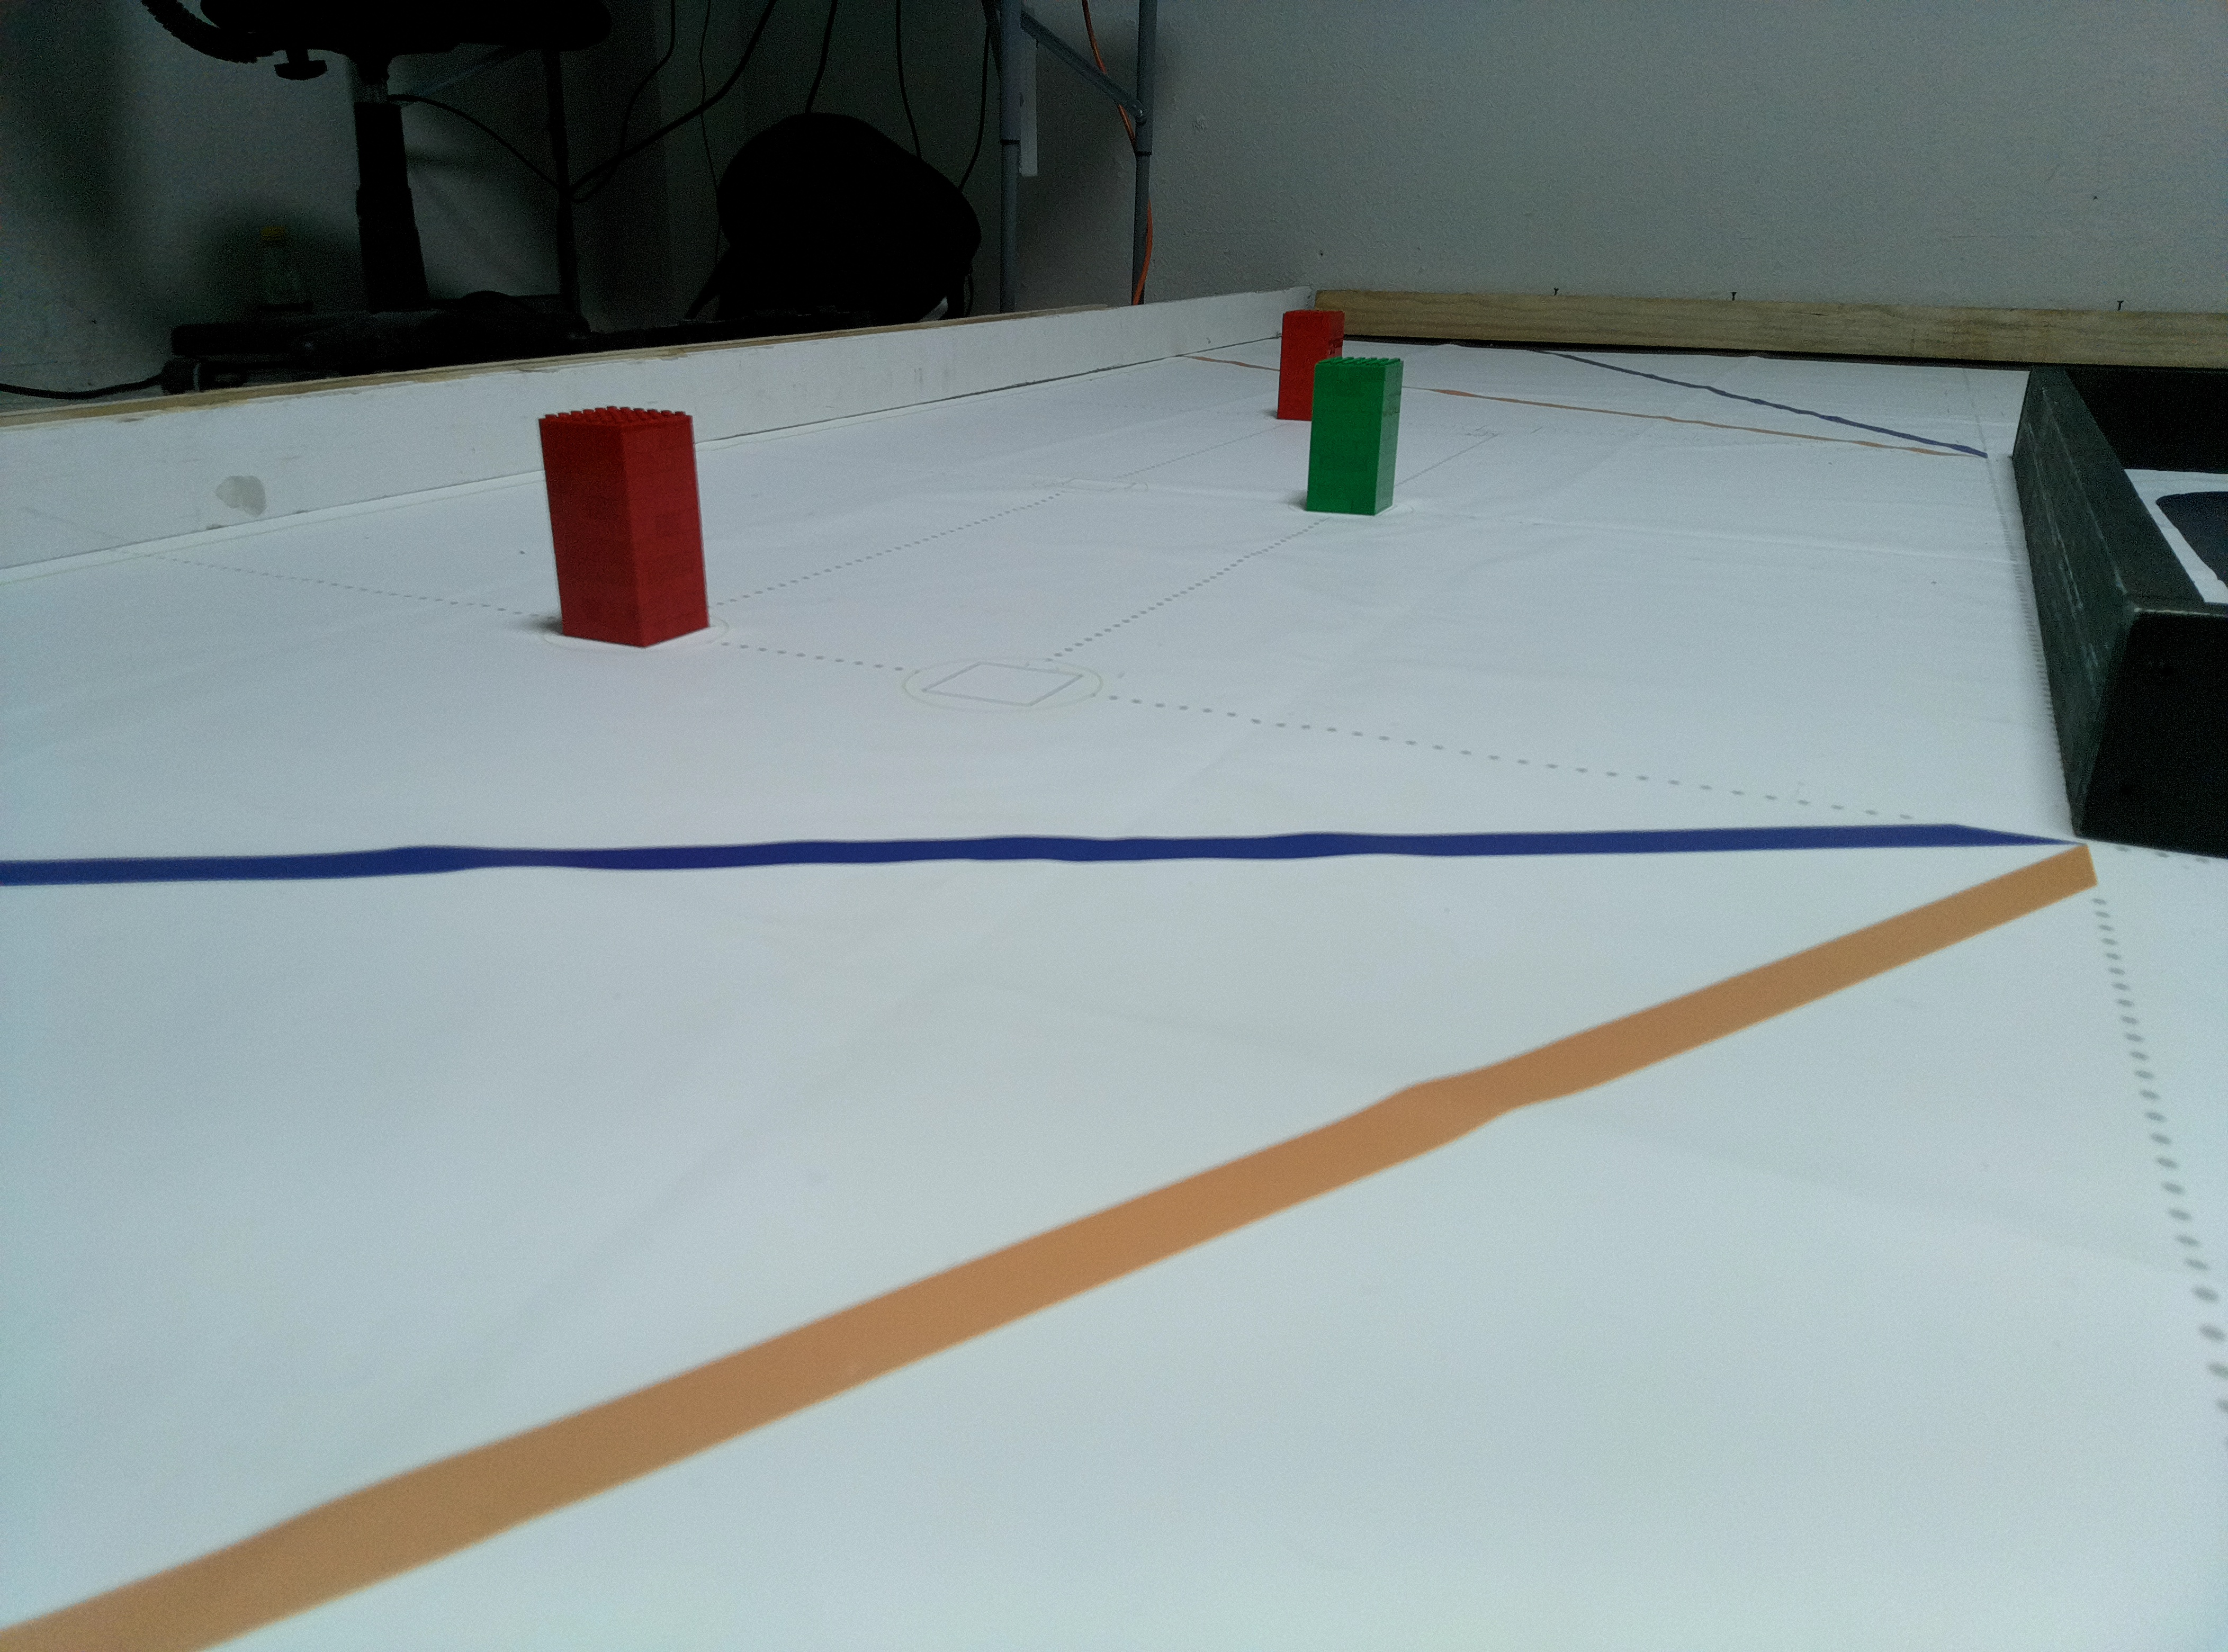greenbox: (1303, 356, 1406, 515)
redbox: (534, 403, 715, 652), (1275, 309, 1345, 422)
